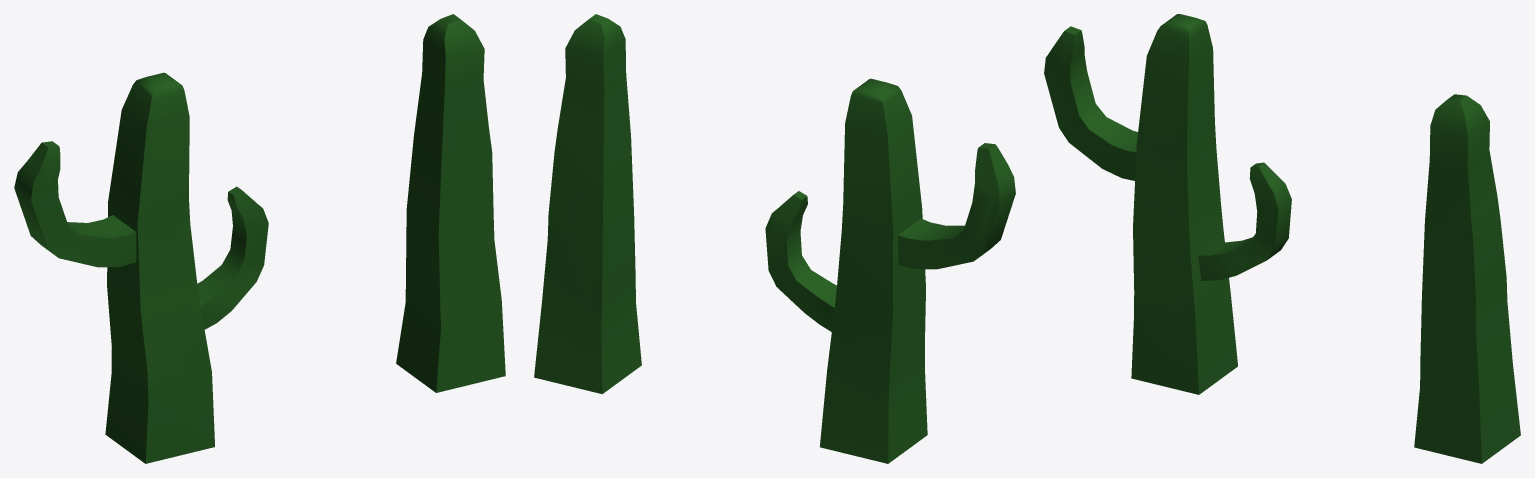
Rendered from cacto.fbx.
3 renders of one model, left to right at view 1: azimuth 30°, elevation 25°; view 2: azimuth 150°, elevation 25°; view 3: azimuth 330°, elevation 25°, orthographic. The views are drawn at different scales.
Visible parts, largest first — view 1: Cacto_1, Cacto_2; view 2: Cacto_1, Cacto_2; view 3: Cacto_1, Cacto_2.
Part boxes in pixels (x1,y1,x2,y2): Cacto_1: (14, 72, 268, 463); Cacto_2: (396, 14, 505, 392); Cacto_1: (765, 78, 1015, 463); Cacto_2: (534, 14, 641, 394); Cacto_1: (1044, 14, 1291, 394); Cacto_2: (1414, 94, 1520, 463).
Bounding box in the file's own units: 318 × 239 × 48.12.
